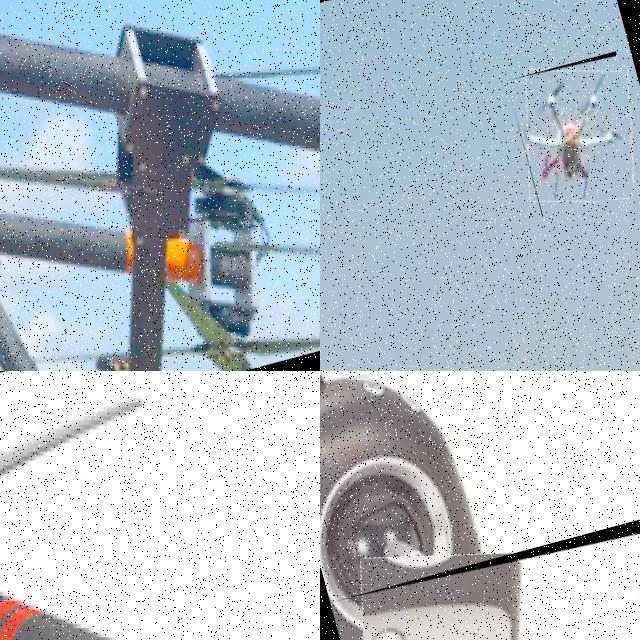0: (505, 50, 640, 216)
drone: (0, 0, 320, 371), (0, 371, 320, 640), (330, 436, 640, 640)
